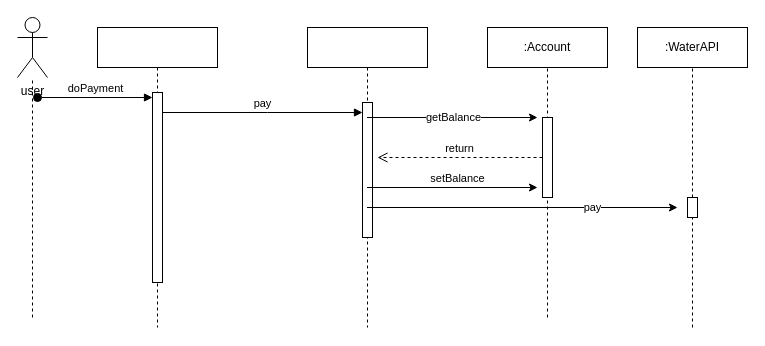
The diagram is 765 pixels wide and 346 high, and some of its shapes have lost their labels. Each missing label, with the box of its shape:
:BillPaymentContext: (96, 26, 218, 328)
:WaterPayment: (306, 26, 428, 328)
